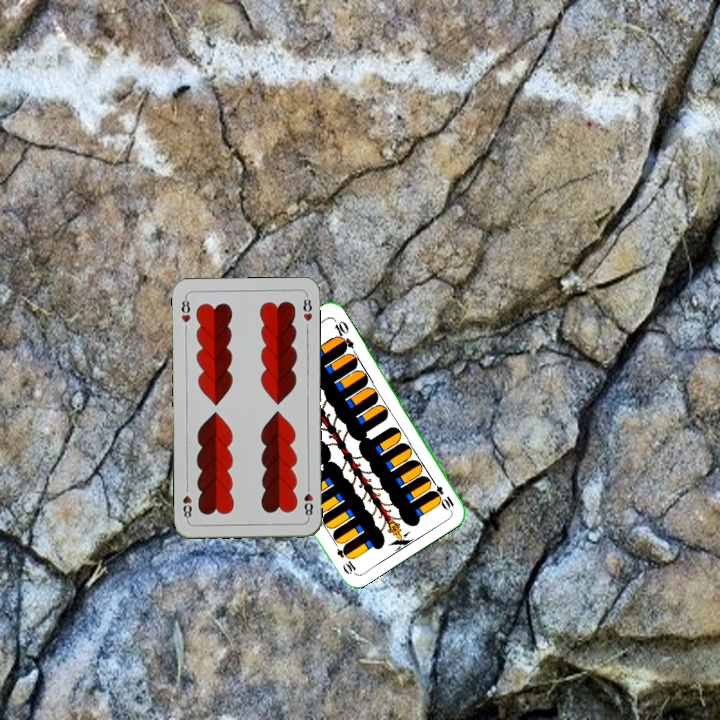E10: (426, 475, 457, 513)
H8: (300, 480, 315, 521), (177, 293, 193, 325)
